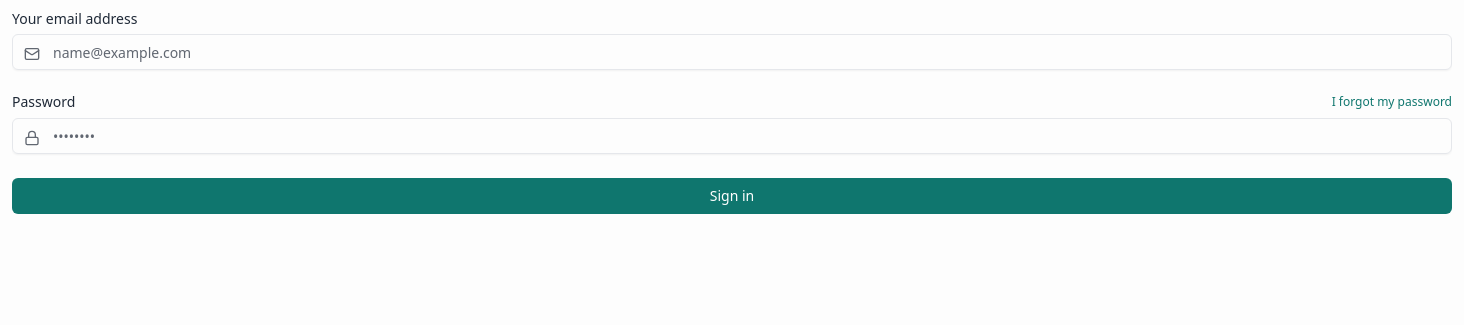
Scenario: LoginForm two-factor challenge › lets the user back out of the challenge
The image size is (1464, 325).
Type "member@test.com" into the field labelled "Your email address" at (732,52), box [12, 34, 1452, 70]
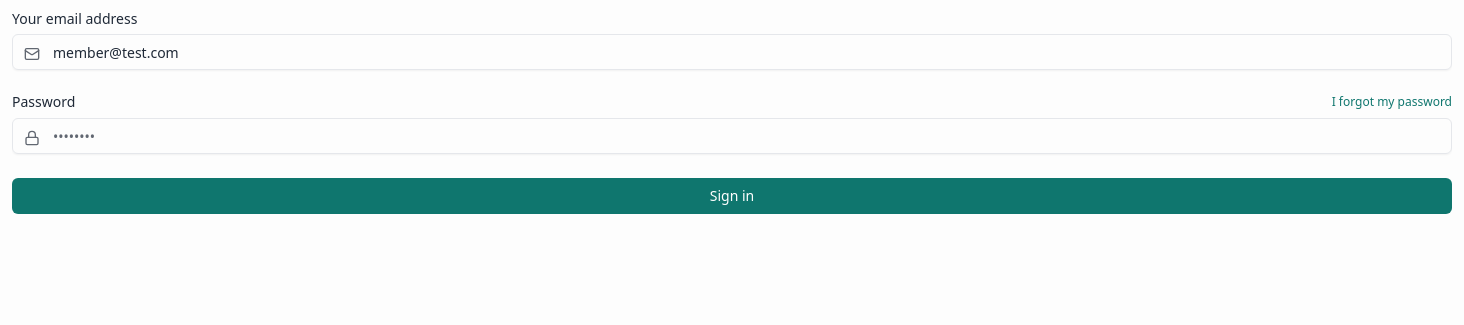
Type "Passw0rd!xyz" into the password field labelled "Password" at (732,136), box [12, 118, 1452, 154]
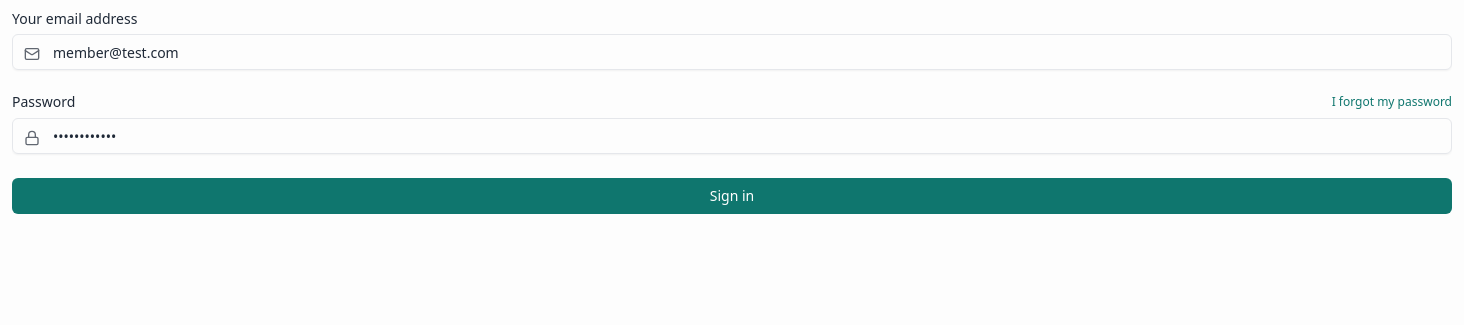
Click the button "Sign in" at (732,196), box [12, 178, 1452, 214]
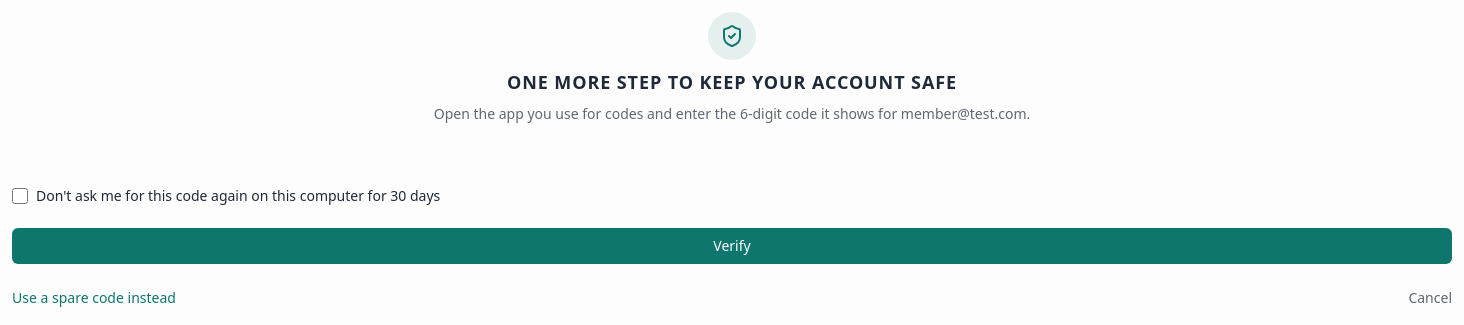
Now the heading "One more step to keep your account safe" is shown, box [507, 70, 957, 94]
Click the button "Cancel" at (1430,298), box [1408, 288, 1452, 308]
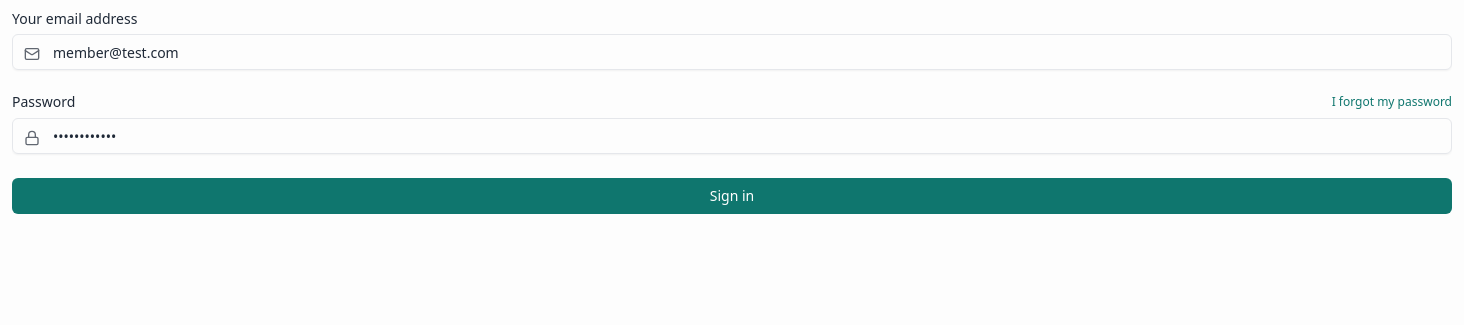
Now the field labelled "Your email address" is shown, box [12, 34, 1452, 70]
Now the heading "One more step to keep your account safe" is gone
